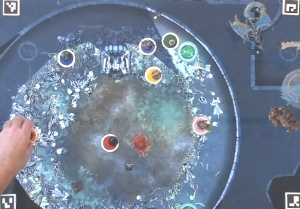blue: (54, 47, 77, 68)
green: (160, 31, 182, 51)
orange: (20, 125, 38, 145)
pink: (188, 113, 212, 137)
red: (99, 130, 120, 155)
violet: (138, 36, 156, 55)
yellow: (140, 64, 164, 86)
